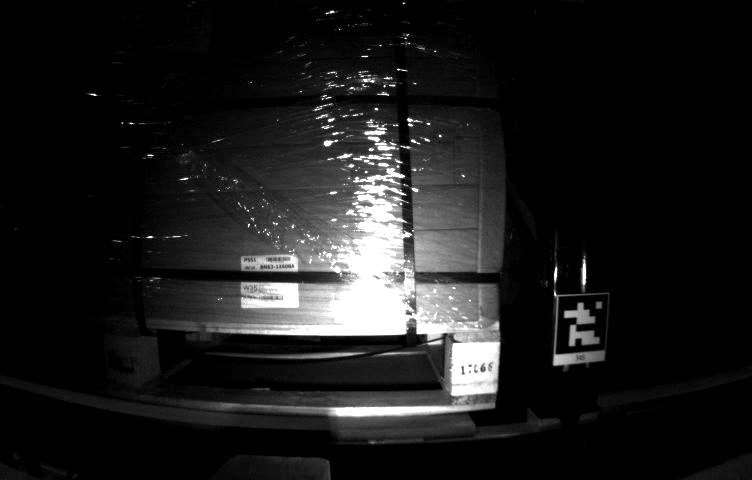True Barcode: (241, 255, 300, 309)
